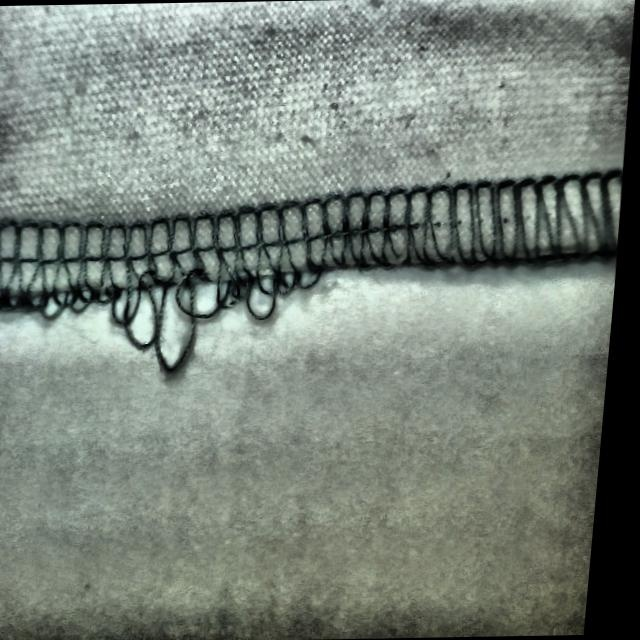Stitch: (6, 178, 332, 388)
